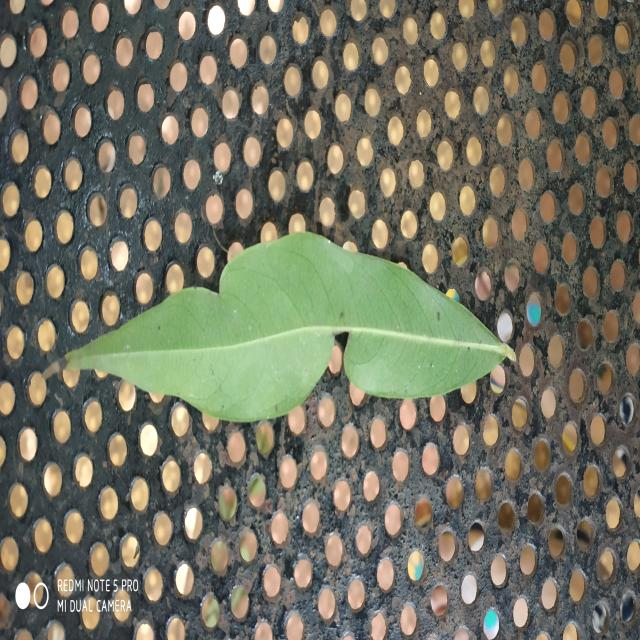seedling blight: (66, 233, 514, 422)
